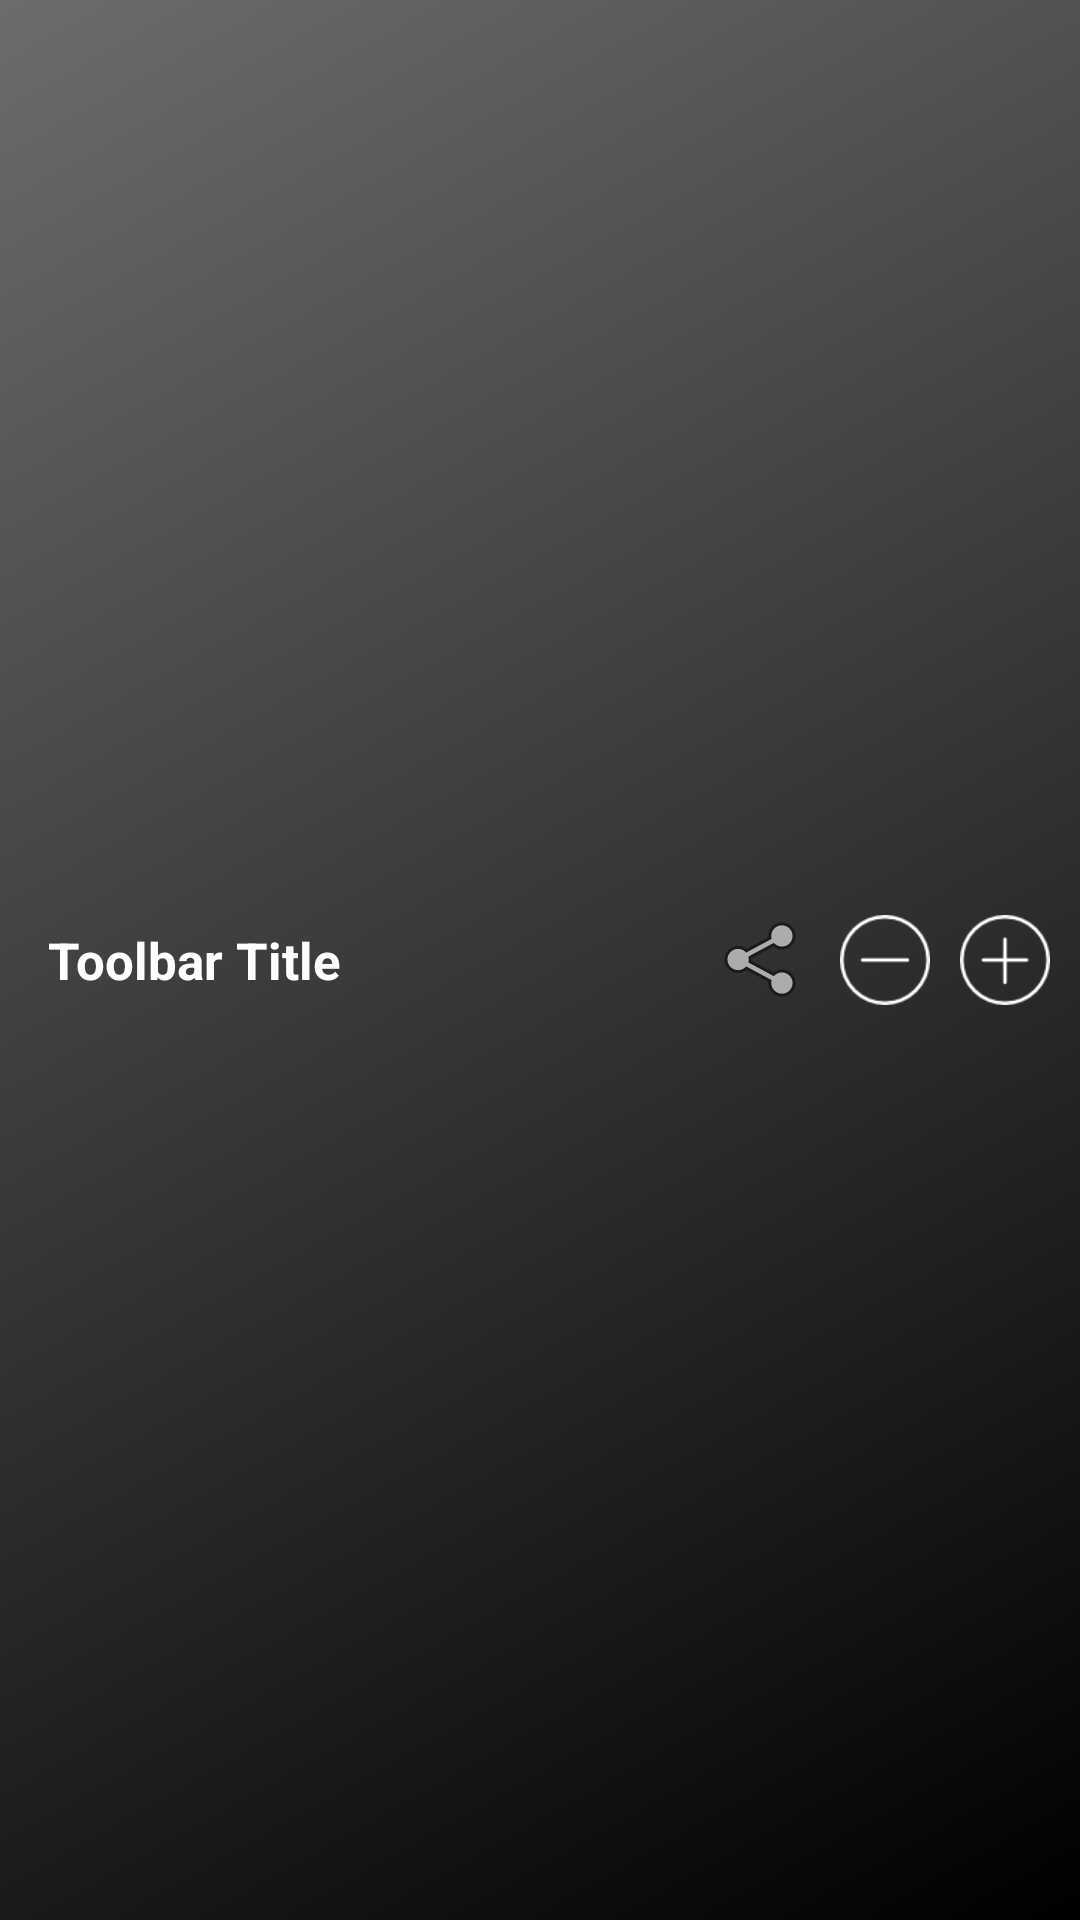

Icons on this 1080px x 1920px Android screen, each with its box as detection(x1, y1, x2, y2):
minusbranco: detection(840, 915, 930, 1005)
plusbranco: detection(960, 915, 1050, 1005)
share: detection(726, 924, 794, 995)
